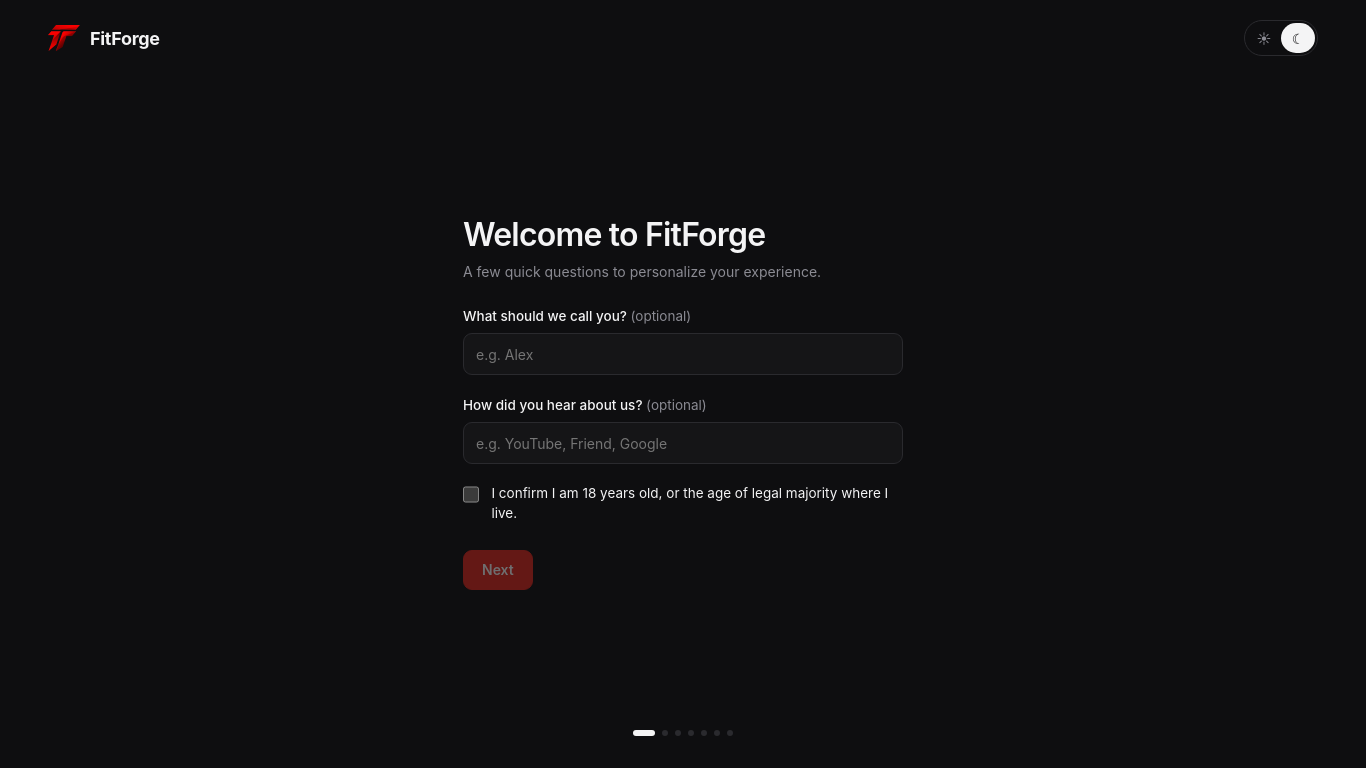
Test case: OnboardingPage Component › allows selecting goal and experience then proceeding
Click the checkbox at (471, 495), box [463,486,479,503]
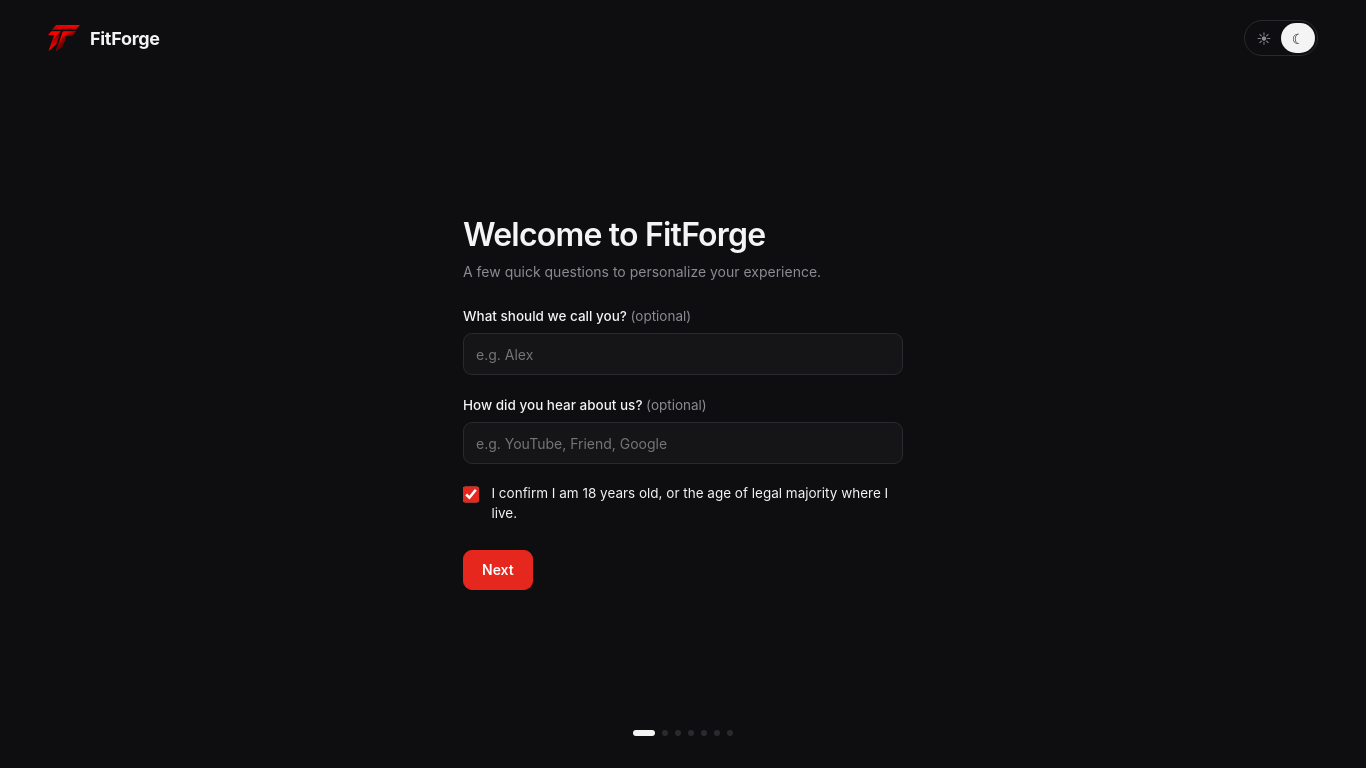
Click the button "Next" at (498, 570), box [463,550,533,590]
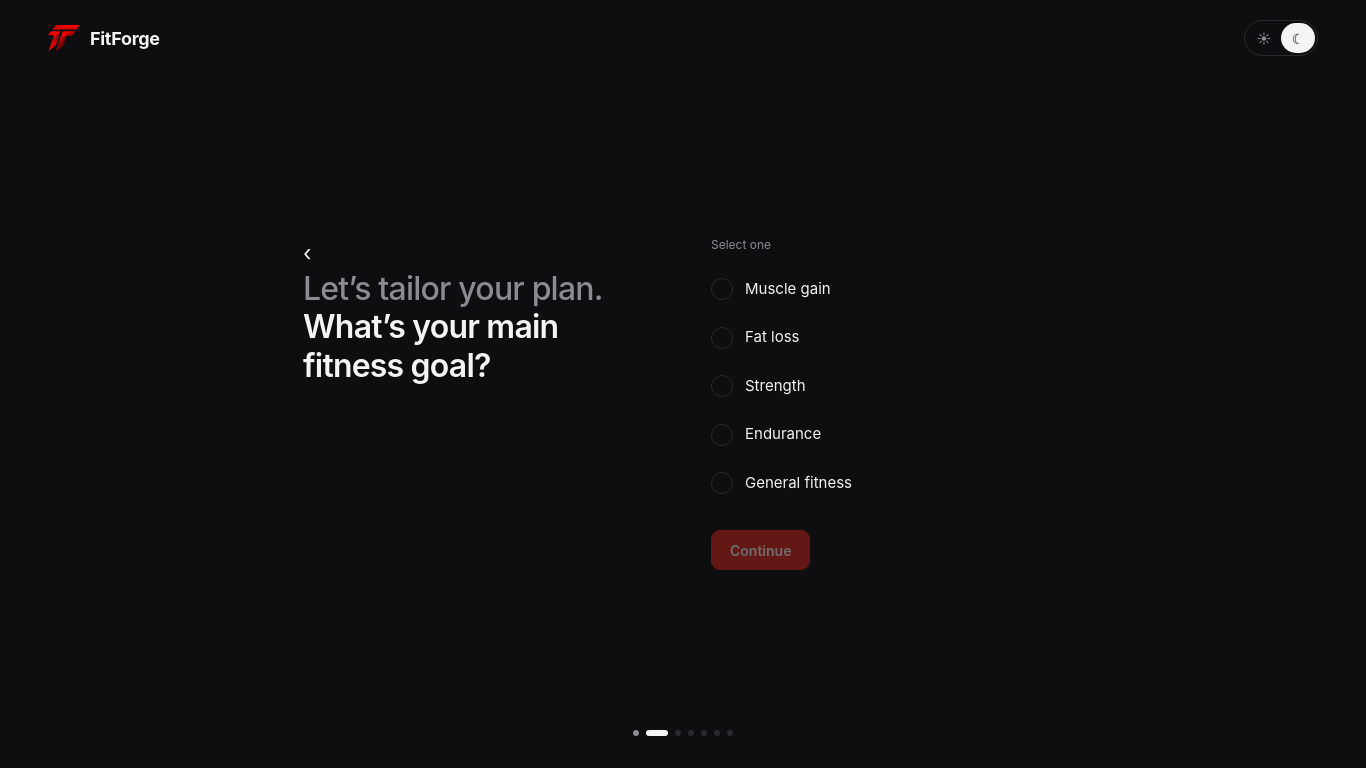
Result: the text "Muscle gain" is shown at [745,278,831,300]
Click the button "✓ Muscle gain" at (788, 288), box [711,268,1063,310]
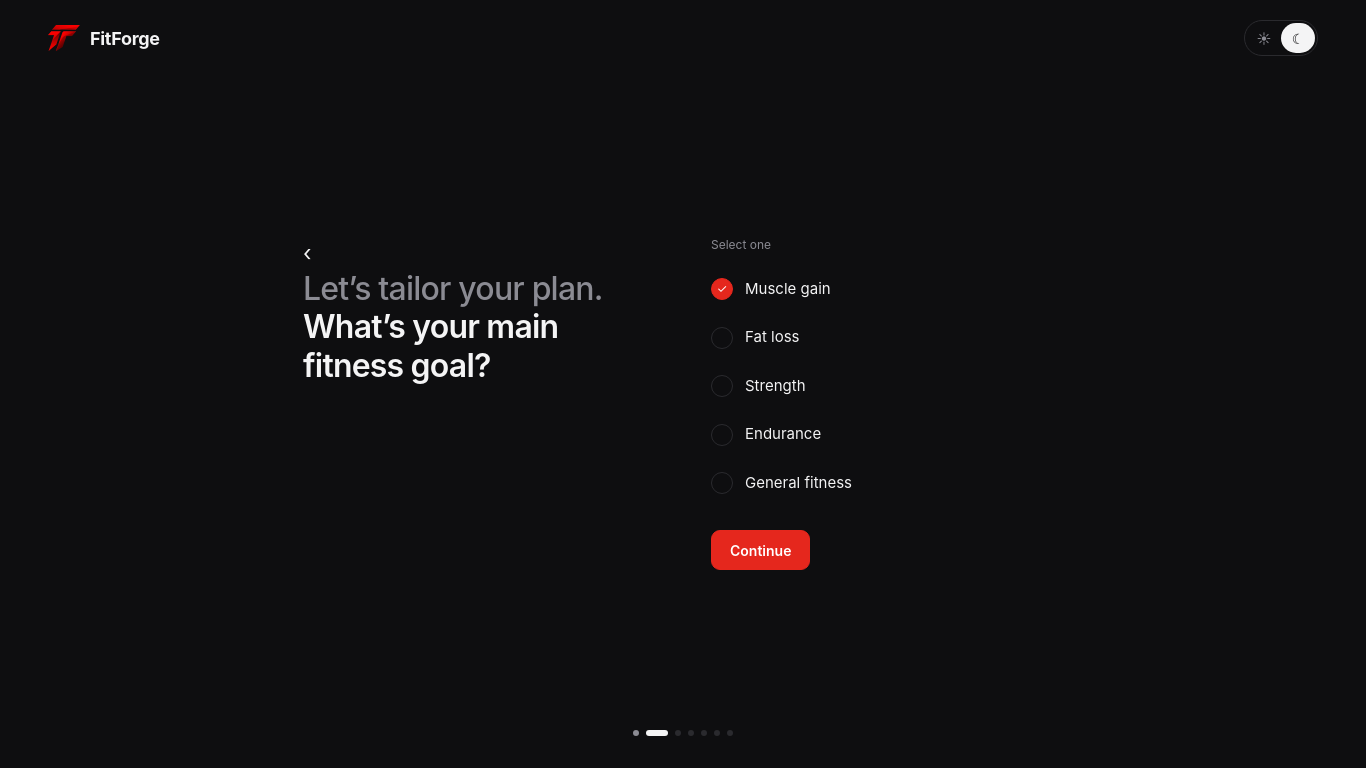
Result: the button "Continue" is enabled
Click the button "Continue" at (761, 550), box [711,530,810,570]
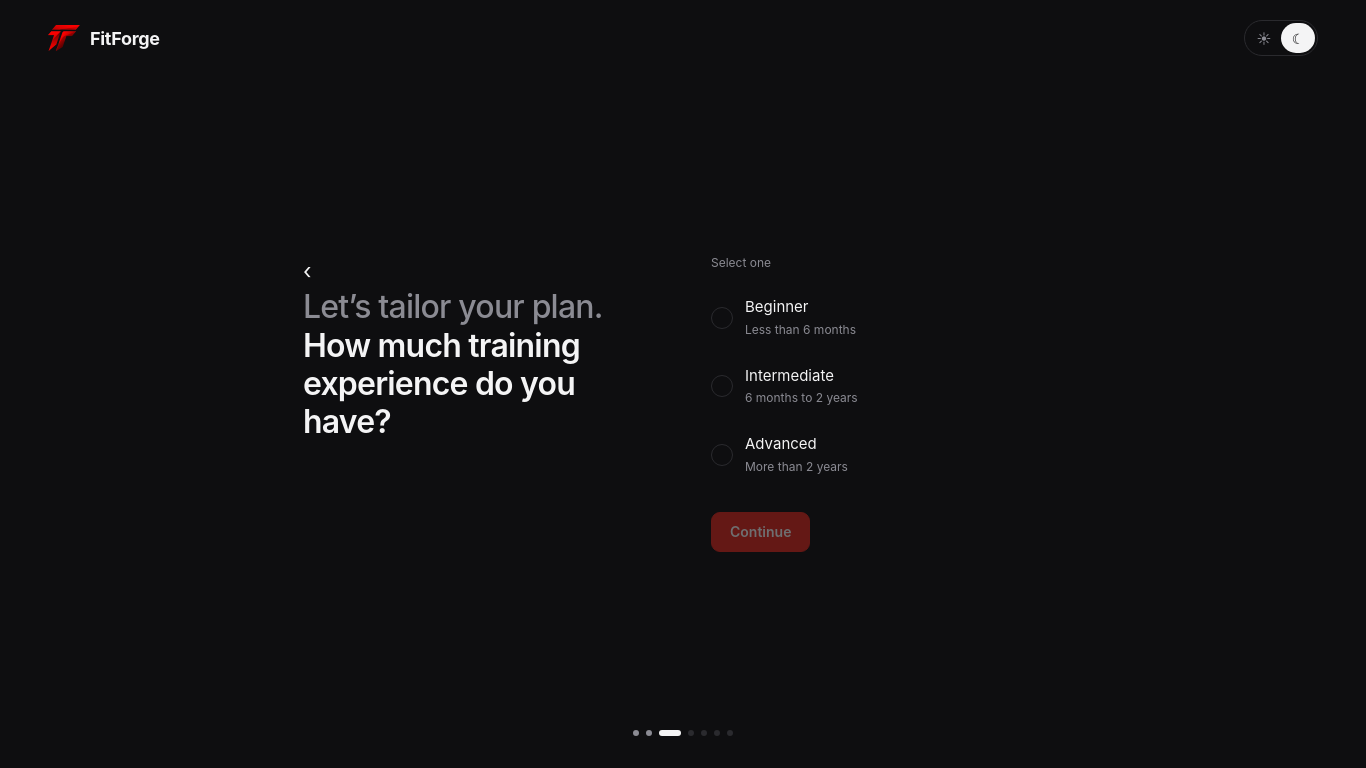
Result: the text "Intermediate" is shown at [745,366,834,385]
Click the button "✓ Intermediate 6 months to 2 years" at (789, 375), box [711,355,1063,417]
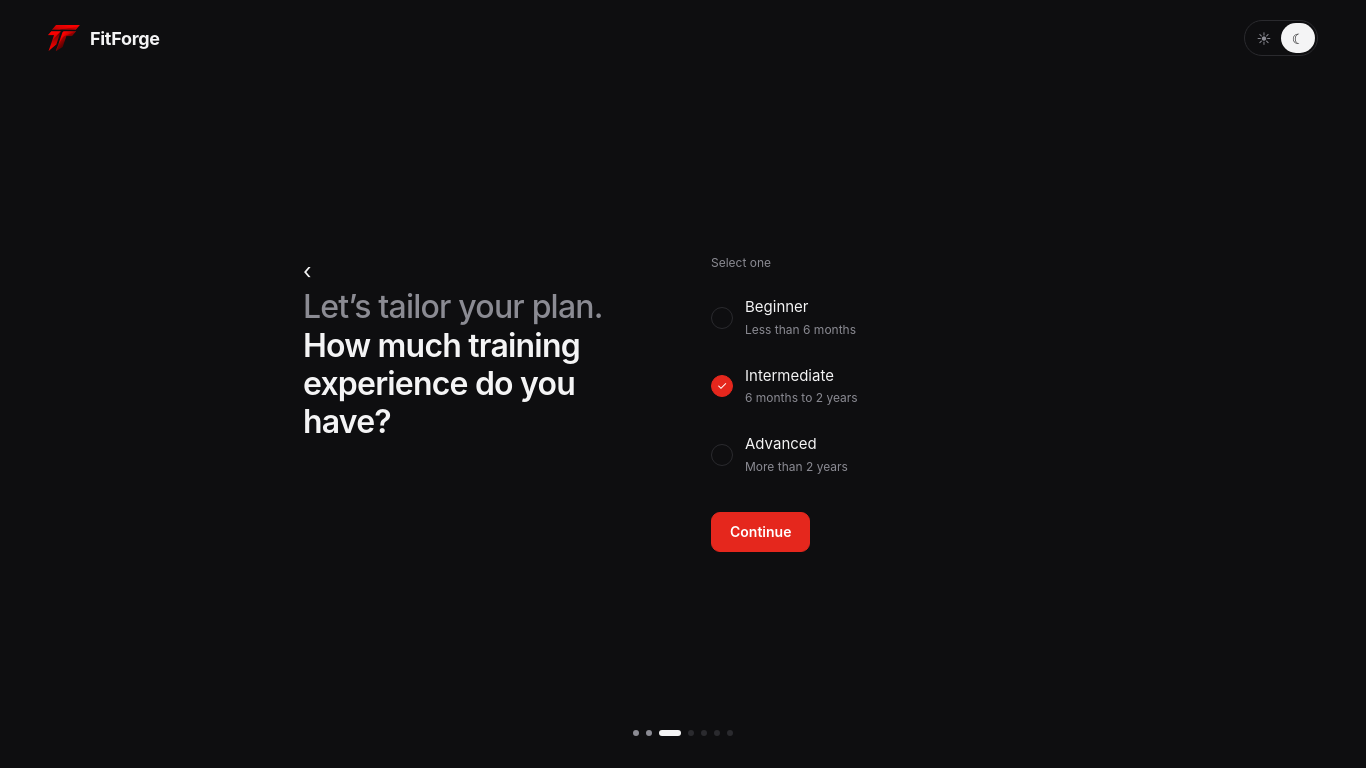
Click the button "Continue" at (761, 532), box [711,512,810,552]
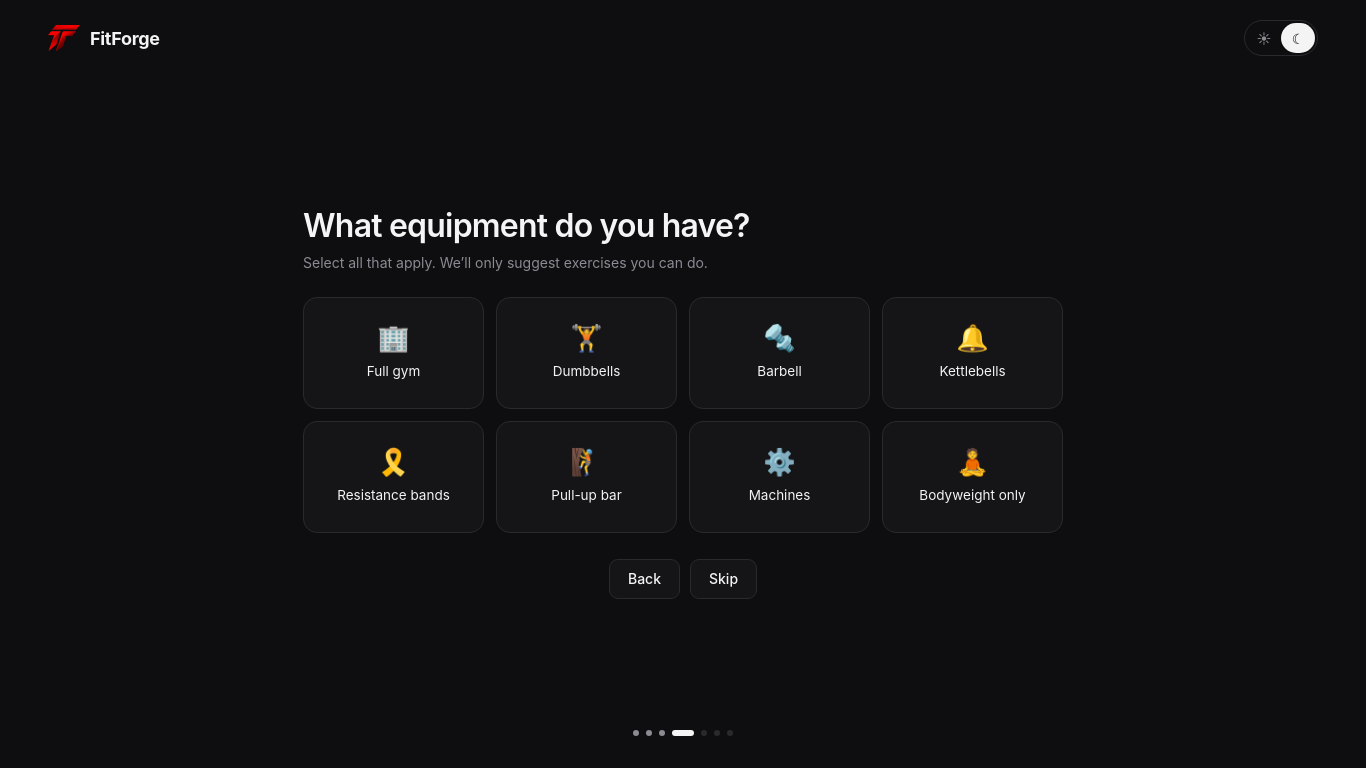
Result: the heading "What equipment do you have?" is shown at [303,206,750,245]
